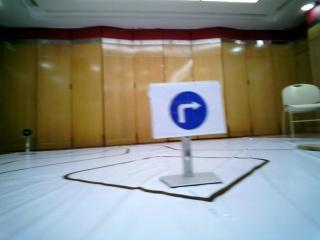right: (150, 88, 220, 130)
